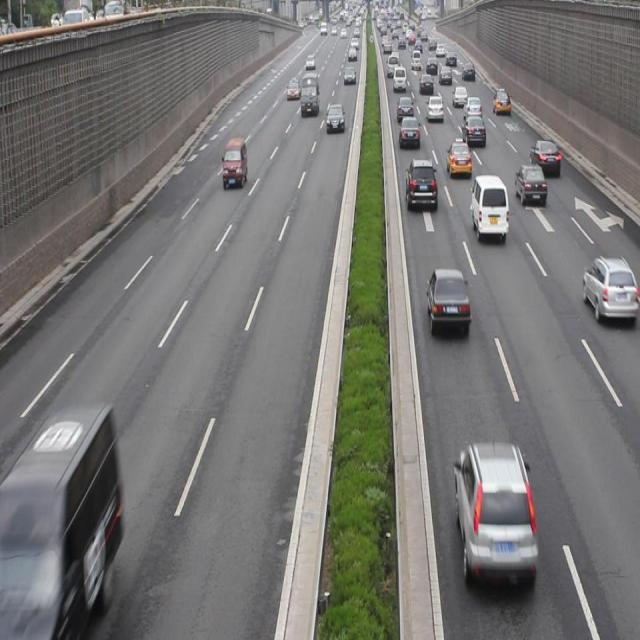car: (453, 444, 536, 588), (580, 255, 634, 321), (424, 266, 470, 336), (404, 157, 437, 212), (514, 164, 545, 207), (445, 140, 472, 179), (530, 141, 558, 177), (461, 115, 485, 146), (398, 115, 418, 148)
truck: (10, 412, 123, 626), (471, 176, 508, 241), (221, 136, 248, 188)
